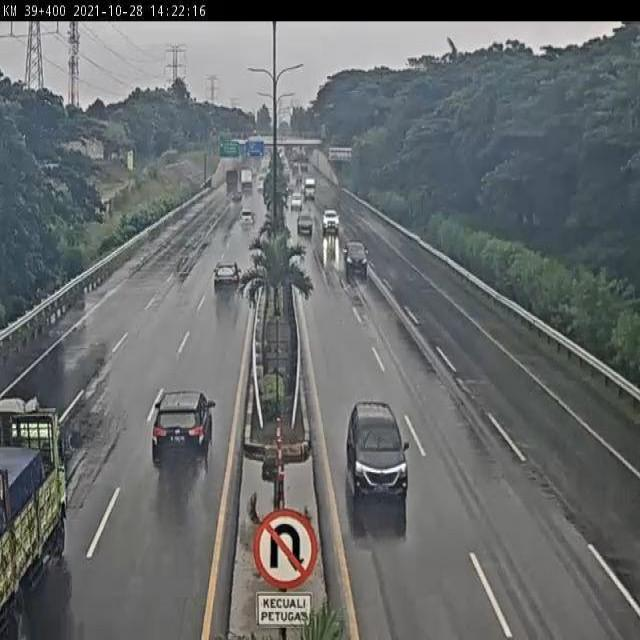car: (340, 400, 411, 507), (143, 386, 215, 471), (340, 240, 375, 279), (210, 256, 244, 292), (236, 205, 259, 232), (296, 211, 315, 236), (321, 208, 339, 233), (289, 191, 305, 212)
small truck: (0, 401, 87, 640)
